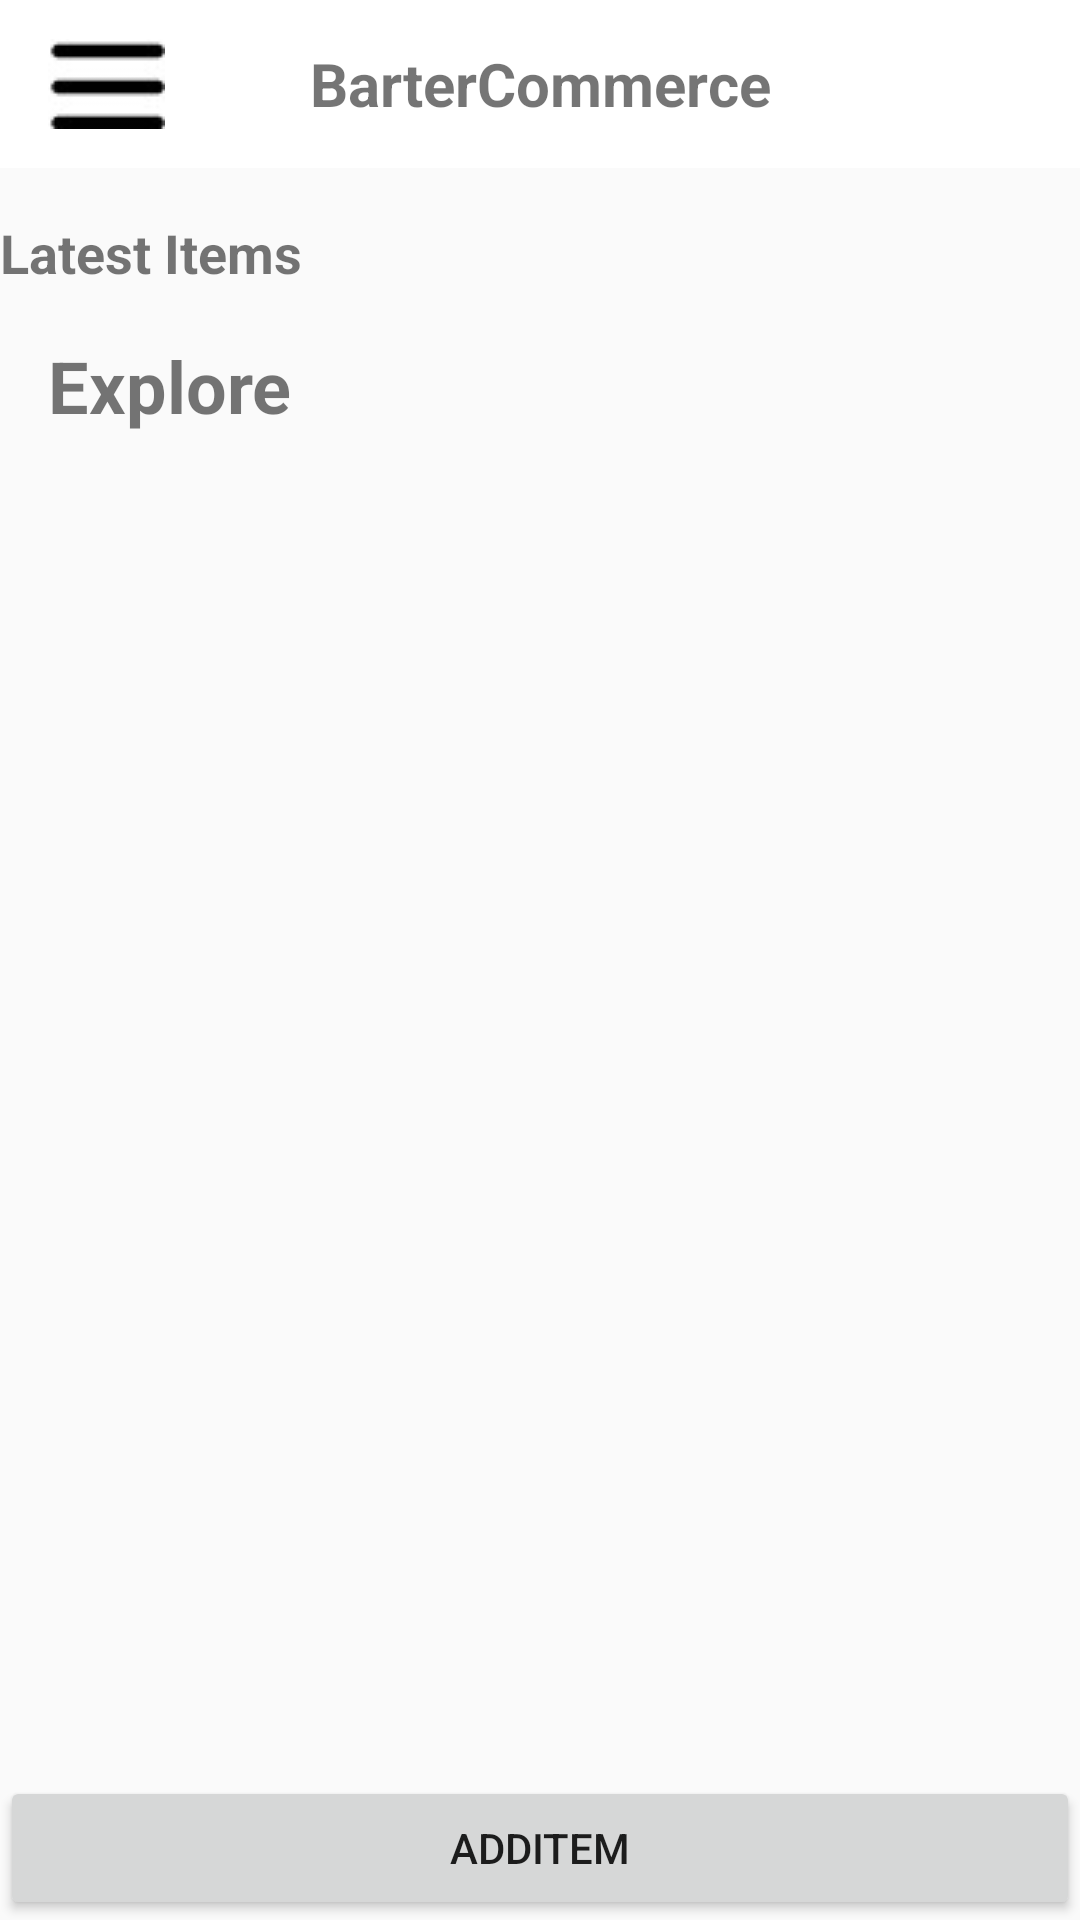

Icons on this 1080*1920 Android screen, each with its box as (x1, y1, x2, y2):
menu: (50, 42, 165, 129)
